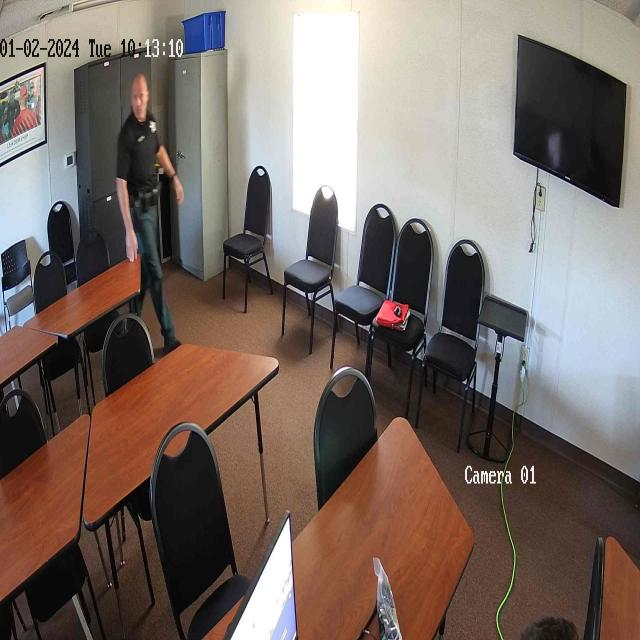weapon: (128, 196, 140, 235)
